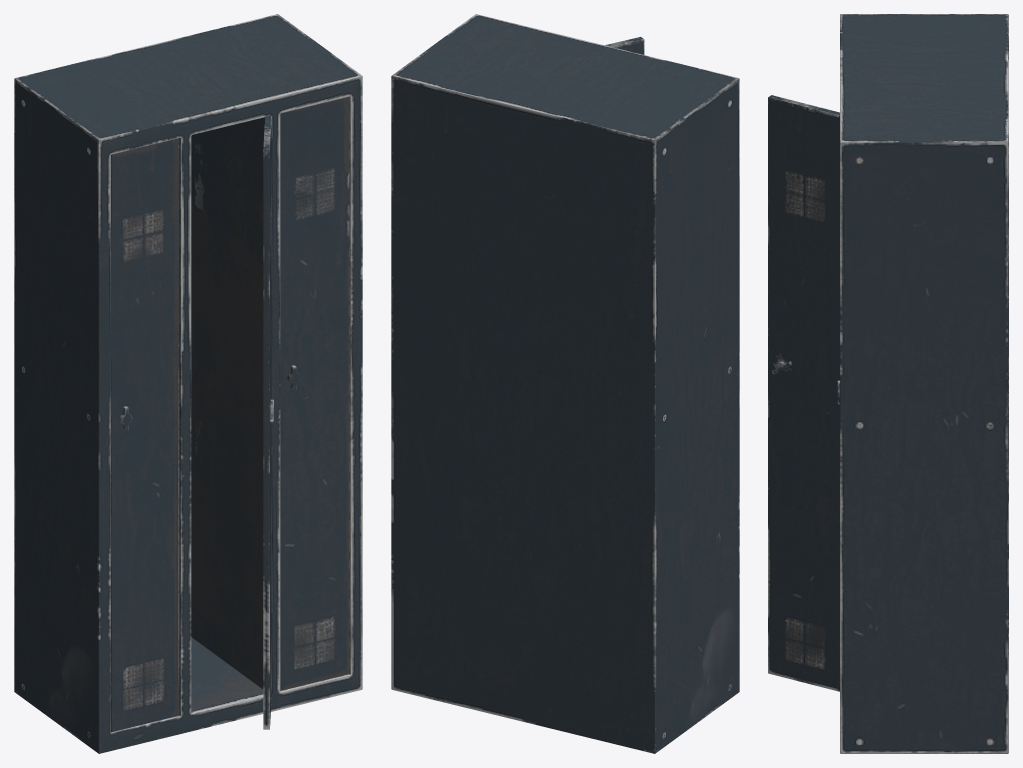
File: locker_-_lowpoly.glb
3 renders of one model, left to right at view 1: azimuth 30°, elevation 25°; view 2: azimuth 150°, elevation 25°; view 3: azimuth 270°, elevation 25°, orthographic.
Parts seen in each view (by area): view 1: Casier_low, Porte_1_low, Porte_3_low, Porte_2_low; view 2: Casier_low; view 3: Casier_low, Porte_2_low.
Boxes of the visible parts, left/top/right/bottom form: Casier_low: left=14, top=14, right=362, bottom=753; Porte_1_low: left=110, top=138, right=179, bottom=732; Porte_3_low: left=280, top=96, right=349, bottom=690; Porte_2_low: left=263, top=116, right=271, bottom=729; Casier_low: left=391, top=14, right=739, bottom=753; Casier_low: left=840, top=14, right=1008, bottom=753; Porte_2_low: left=768, top=95, right=839, bottom=691.
Bounding box in the file's own units: 0.9 × 2 × 0.7129.
1 material, 1 textured.
